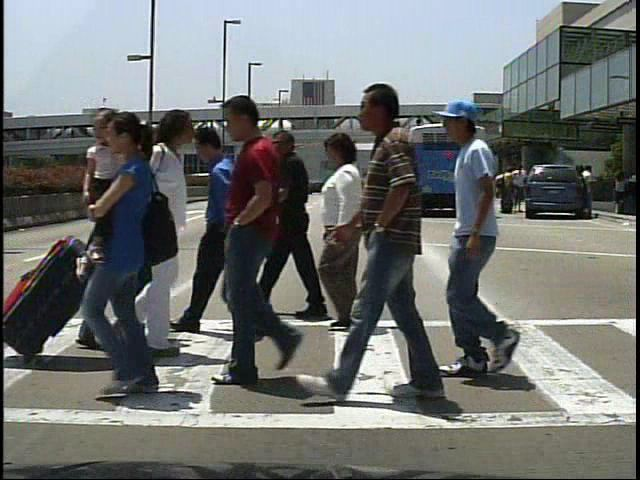person: (339, 84, 474, 423), (93, 110, 205, 369), (216, 93, 309, 386), (444, 102, 530, 380), (173, 123, 268, 346), (296, 135, 384, 333), (260, 126, 333, 322), (110, 117, 166, 361), (94, 192, 135, 331), (582, 166, 602, 218), (509, 165, 529, 215), (498, 166, 515, 219)
